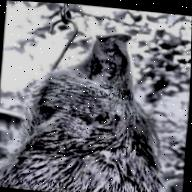boar: (0, 20, 177, 192)
